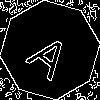A: (25, 25, 80, 82)
